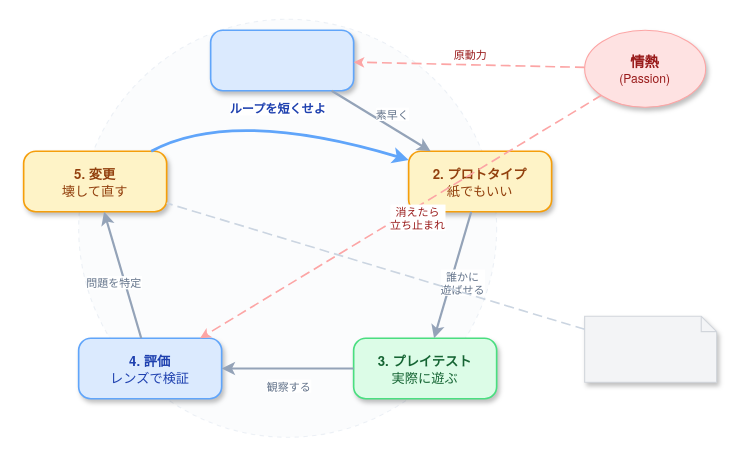
This 744x457 diagram has some shape labels left out. The centre of each missing label's shape, as x and y in pixels:
1. アイデア 思いつく: point (283, 62)
Fail Faster, Follow the Fun: point (651, 350)
